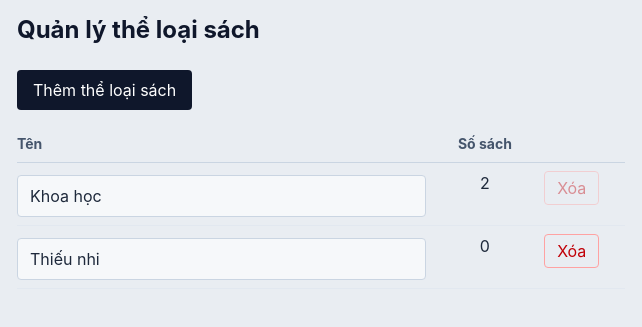
Test case: Categories › add › shows the duplicate-name error from the server
expect the field named "Tên thể loại Khoa học" is shown: met, box left=17, top=175, right=426, bottom=217
Step 1. Click the button "Thêm thể loại sách" → [105, 90], box left=17, top=70, right=192, bottom=110
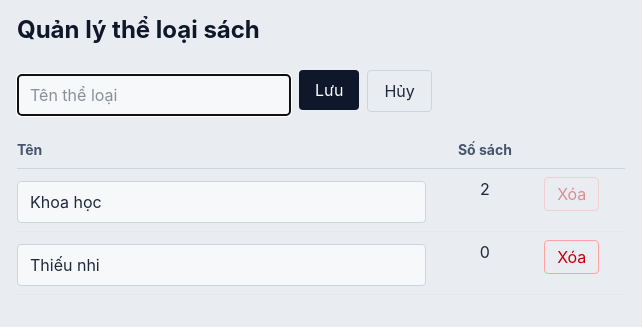
Step 2. Type "khoa học" into the field named "Tên thể loại mới" → [154, 95], box left=17, top=74, right=291, bottom=116
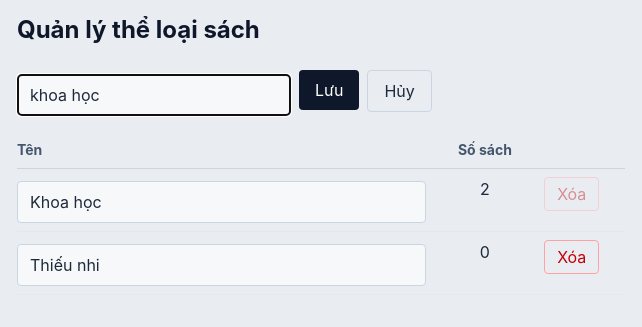
Step 3. Click the button "Lưu" → [329, 90], box left=299, top=70, right=359, bottom=110
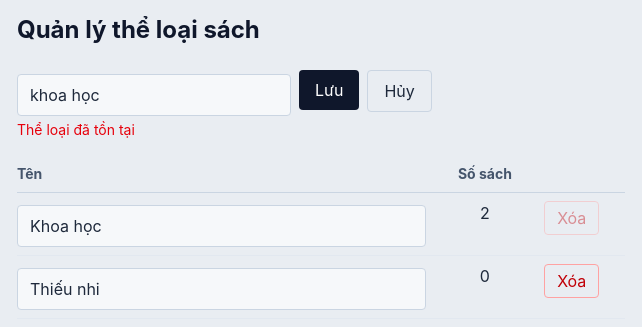
expect the text "Thể loại đã tồn tại" is shown: met, box left=17, top=121, right=135, bottom=138
